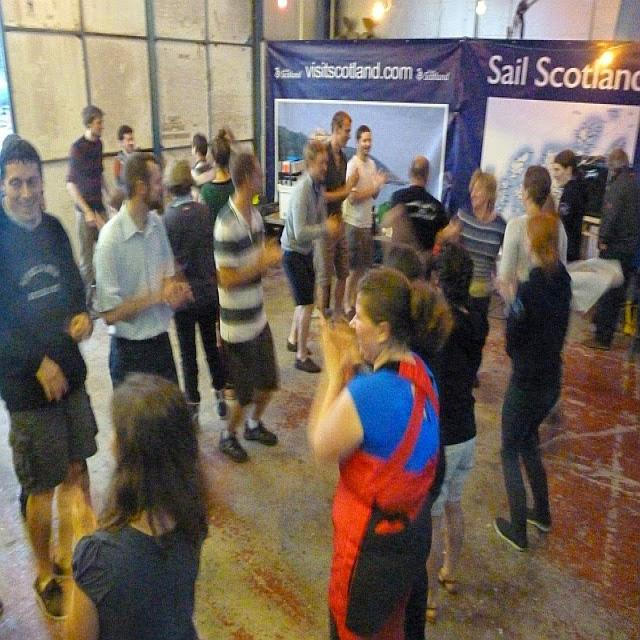body: (299, 261, 457, 639), (0, 136, 101, 624), (60, 366, 211, 640), (407, 241, 492, 623), (490, 206, 576, 554), (90, 147, 198, 392), (207, 148, 288, 465), (158, 156, 229, 419), (431, 167, 508, 389), (278, 137, 340, 376), (339, 203, 434, 356), (578, 145, 639, 352), (65, 103, 117, 320), (495, 161, 571, 307), (341, 123, 391, 324), (319, 110, 360, 330), (389, 155, 453, 253), (549, 148, 590, 265), (195, 127, 237, 232), (112, 123, 138, 215), (188, 132, 215, 203)
